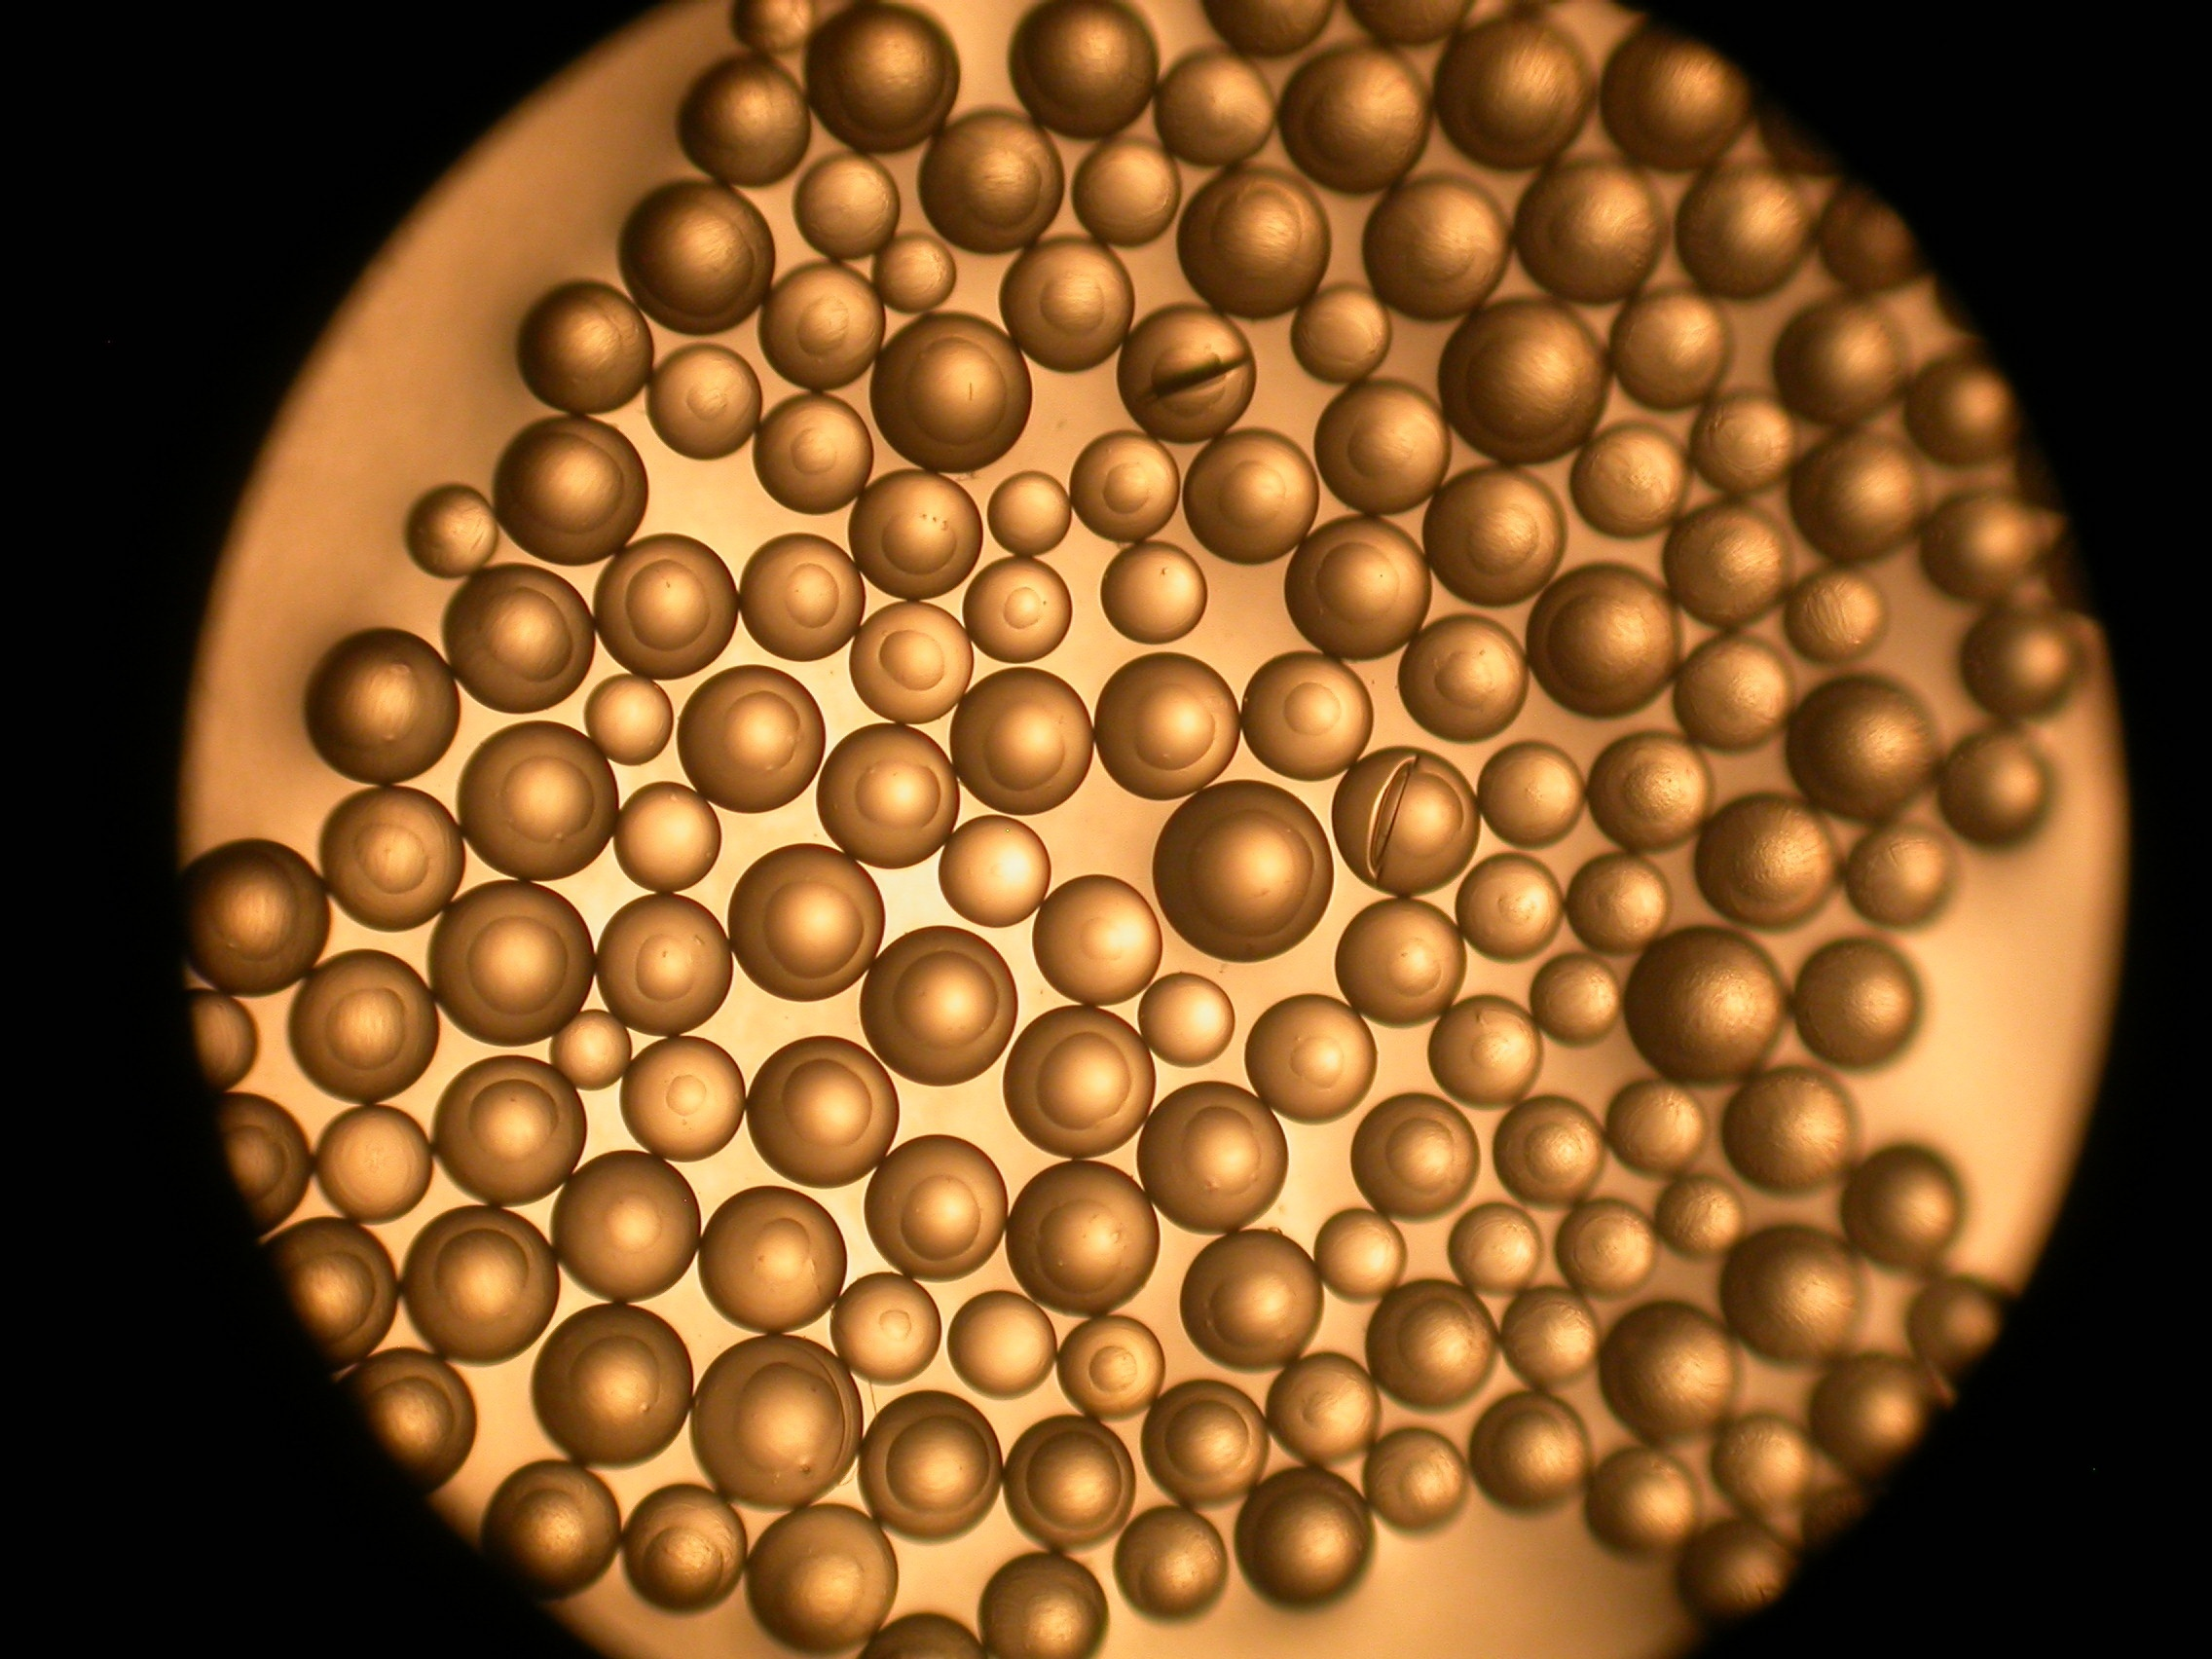destroyed_resin: (1331, 744, 1482, 899), (1116, 305, 1259, 444)
full_resin: (1151, 781, 1334, 965), (691, 1335, 864, 1513), (1437, 295, 1611, 467), (427, 880, 597, 1049), (1623, 924, 1789, 1091), (531, 1303, 695, 1469), (869, 314, 1035, 476), (458, 720, 620, 882), (402, 1204, 561, 1368), (859, 924, 1017, 1086), (728, 842, 887, 1002), (303, 627, 462, 788), (1176, 164, 1334, 322), (1278, 40, 1435, 199), (618, 181, 777, 338), (1524, 561, 1683, 718), (176, 840, 333, 997), (1005, 1159, 1160, 1317), (493, 413, 648, 568), (1001, 1006, 1158, 1159), (1137, 1080, 1291, 1237), (747, 1033, 900, 1190), (1435, 14, 1594, 164), (432, 1056, 587, 1208), (803, 2, 960, 152), (289, 948, 439, 1105), (749, 1504, 902, 1656), (550, 1148, 700, 1303), (1599, 17, 1754, 167), (857, 1389, 1003, 1547), (1512, 157, 1670, 303), (444, 563, 597, 713), (334, 1344, 481, 1495), (319, 786, 467, 934), (679, 666, 826, 816), (698, 1187, 848, 1333), (1284, 516, 1433, 662), (1364, 173, 1514, 319), (1094, 653, 1240, 802), (918, 110, 1066, 256), (864, 1134, 1010, 1283), (949, 667, 1094, 817), (1423, 464, 1569, 610), (1789, 674, 1940, 816), (817, 723, 961, 870), (592, 533, 738, 678), (1597, 1300, 1743, 1445), (1179, 1230, 1327, 1371), (1693, 789, 1841, 931), (1721, 1223, 1869, 1363), (1235, 1466, 1376, 1610), (1007, 2, 1157, 136), (596, 894, 735, 1037), (1791, 425, 1933, 565), (1313, 378, 1453, 518), (481, 1460, 622, 1598), (1000, 235, 1136, 376), (1184, 429, 1320, 568), (1723, 1065, 1862, 1201), (516, 281, 653, 416), (1677, 159, 1811, 298), (1791, 936, 1925, 1073), (848, 469, 984, 603), (1244, 993, 1381, 1126), (263, 1216, 401, 1349), (1003, 1415, 1137, 1549), (1240, 652, 1376, 784), (1366, 1279, 1498, 1415), (1029, 873, 1163, 1006), (678, 52, 812, 185), (1397, 613, 1533, 744), (756, 260, 887, 394), (1348, 1093, 1482, 1223), (1773, 300, 1909, 429), (1663, 502, 1797, 629), (1139, 1378, 1270, 1507), (1585, 728, 1719, 852), (624, 1485, 747, 1615), (620, 1035, 745, 1162), (740, 533, 864, 662), (200, 1093, 310, 1236), (1810, 1354, 1939, 1474), (752, 394, 876, 518), (1608, 286, 1731, 408), (850, 603, 975, 723), (1472, 1391, 1592, 1514), (1843, 1145, 1966, 1265), (1674, 634, 1796, 755), (1489, 1093, 1609, 1213), (1909, 345, 2020, 474), (1939, 728, 2057, 849), (1583, 1448, 1703, 1565), (1571, 422, 1693, 537), (1961, 606, 2087, 718), (979, 1553, 1109, 1659), (317, 1105, 434, 1223), (1113, 1506, 1228, 1622), (1428, 993, 1545, 1108), (1925, 486, 2040, 603), (650, 343, 763, 462), (829, 1270, 942, 1387), (1266, 1352, 1383, 1466), (939, 814, 1052, 927), (1069, 430, 1183, 542), (1844, 819, 1961, 927), (946, 1291, 1057, 1403), (1676, 1520, 1794, 1624), (1454, 852, 1564, 964), (615, 781, 723, 894), (1364, 1424, 1472, 1537), (1075, 138, 1179, 253), (1817, 178, 1921, 293), (1475, 741, 1587, 847), (1782, 565, 1895, 667), (794, 153, 902, 260), (1602, 1077, 1712, 1182), (1055, 1314, 1167, 1417), (1691, 389, 1797, 495), (1099, 542, 1209, 645), (965, 558, 1071, 662), (1712, 1412, 1818, 1516), (1289, 284, 1397, 387), (1555, 1197, 1658, 1303), (1566, 852, 1672, 953), (1501, 1284, 1601, 1389), (1905, 1272, 2001, 1371), (1529, 950, 1625, 1049), (1447, 1201, 1543, 1297), (1139, 972, 1237, 1066), (172, 988, 261, 1091), (1313, 1208, 1407, 1303), (406, 484, 498, 582), (583, 671, 672, 765), (988, 471, 1075, 559), (1656, 1173, 1747, 1258), (871, 232, 958, 315), (550, 1007, 632, 1091), (730, 2, 813, 52)
